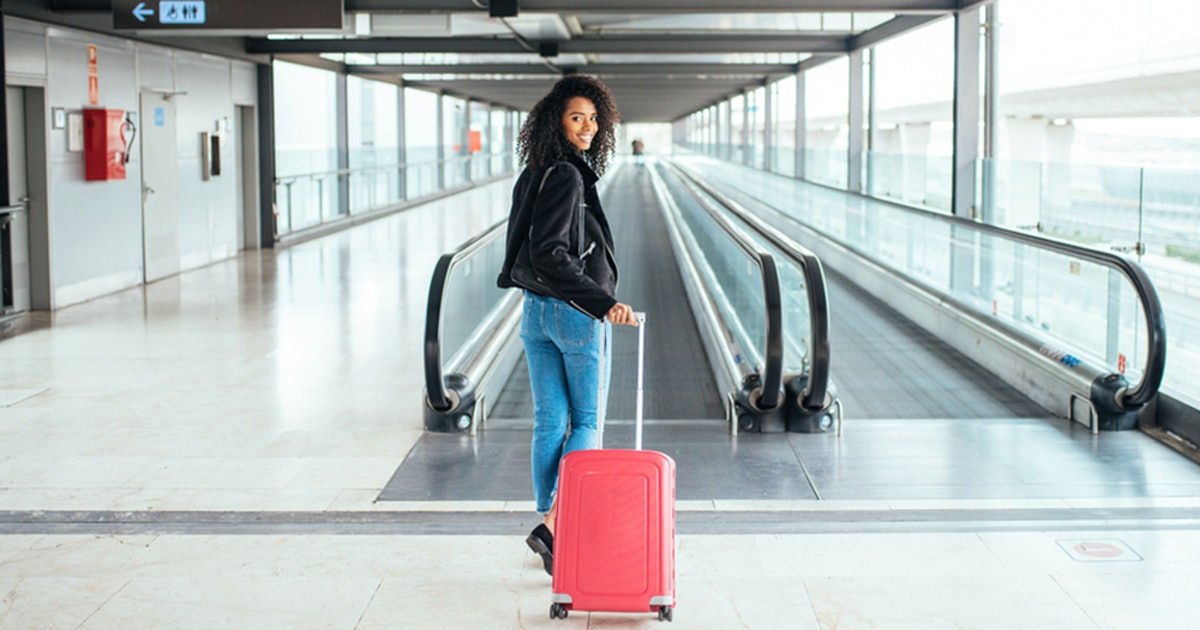luggage: (554, 402, 682, 630)
